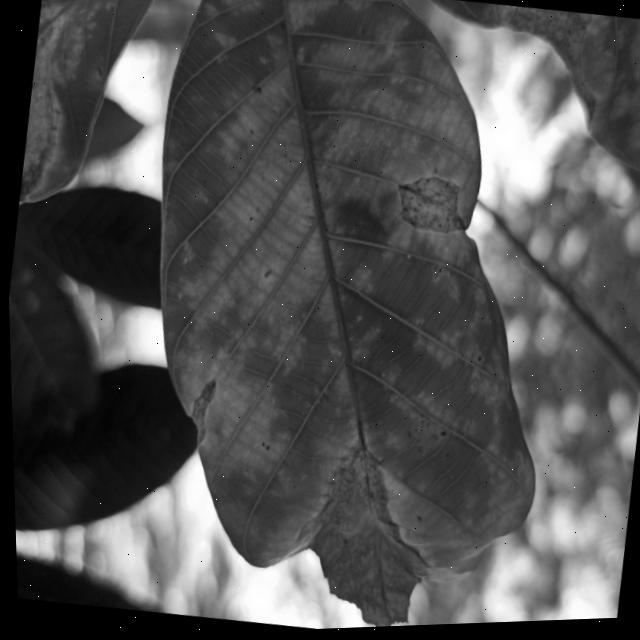Leaf-Blight: (288, 433, 444, 632), (480, 4, 608, 133), (14, 11, 78, 208), (391, 173, 472, 240), (182, 376, 219, 450)
